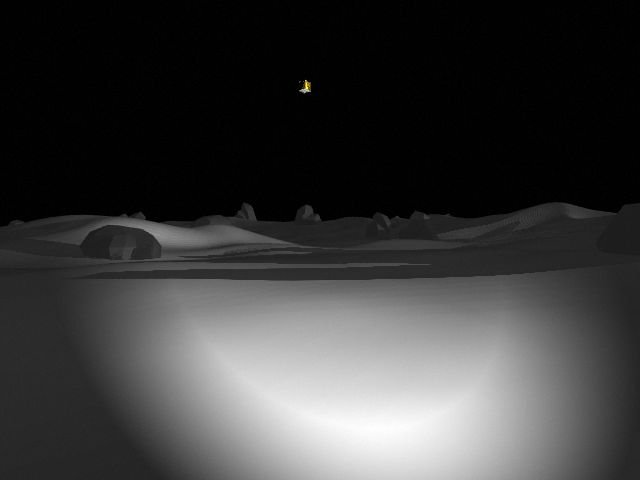cubesat: (295, 78, 314, 98)
